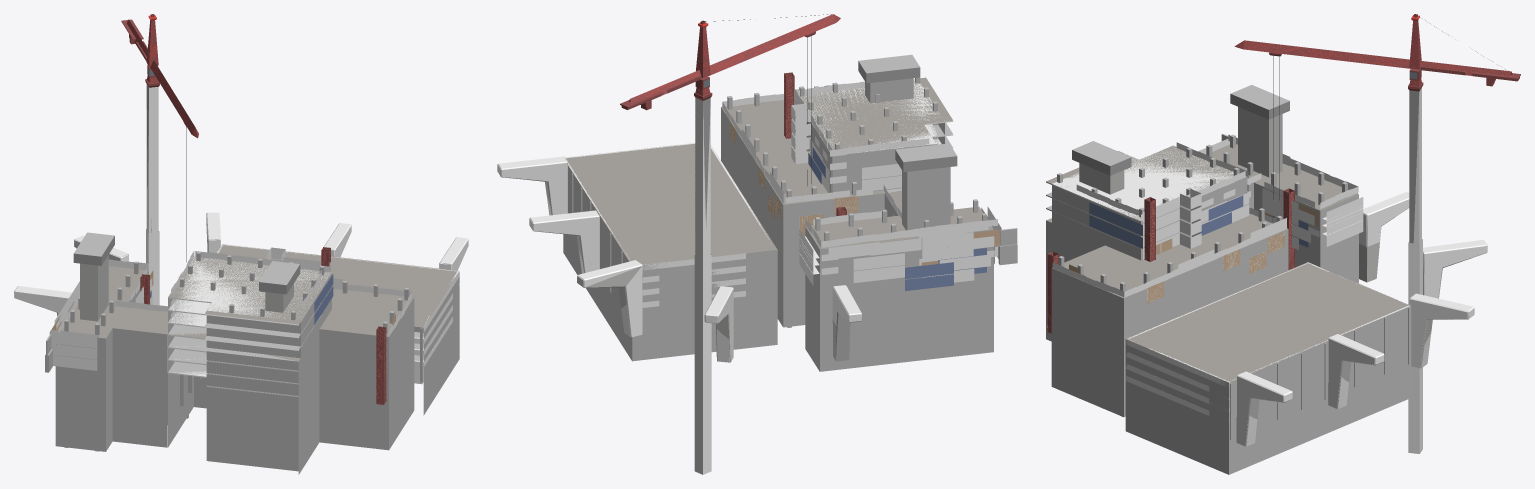
The model's file is city_constructionsite.dae.
3 views of the same model, side by side, from view 1: azimuth 30°, elevation 25°; view 2: azimuth 150°, elevation 25°; view 3: azimuth 270°, elevation 25° (orthographic). The views are drawn at different scales.
Parts seen in each view (by area): view 1: city_constructionsite_a500, city_constructionsite_a1000, city_constructionsite_a2000; view 2: city_constructionsite_a500, city_constructionsite_a1000, city_constructionsite_a2000; view 3: city_constructionsite_a500, city_constructionsite_a1000, city_constructionsite_a2000.
Part boxes in pixels (box(x1,y1,x2,y2)): city_constructionsite_a500: box(55, 244, 459, 474); city_constructionsite_a1000: box(14, 14, 459, 451); city_constructionsite_a2000: box(14, 15, 468, 403); city_constructionsite_a500: box(563, 86, 993, 371); city_constructionsite_a1000: box(500, 14, 1017, 362); city_constructionsite_a2000: box(497, 14, 1001, 474); city_constructionsite_a500: box(1046, 145, 1411, 474); city_constructionsite_a1000: box(1046, 14, 1520, 446); city_constructionsite_a2000: box(1047, 15, 1511, 453).
Bounding box in the file's own units: 131 × 114 × 115.
